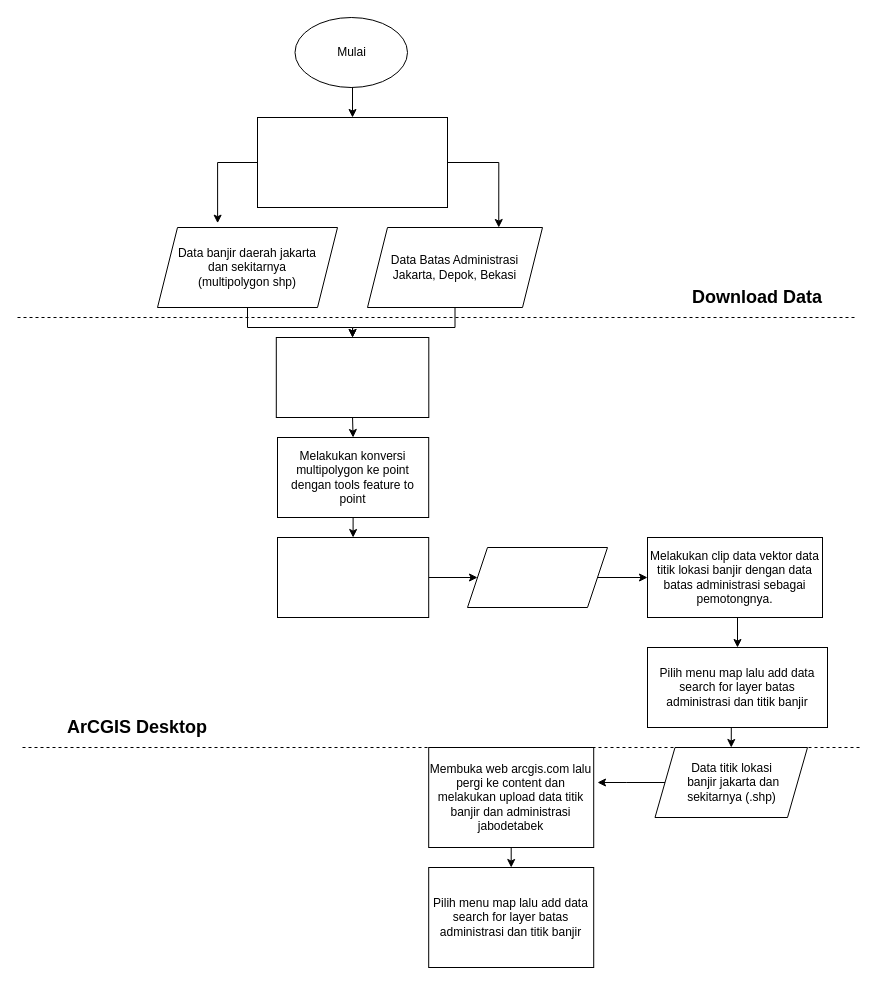
The diagram is 881 pixels wide and 985 high, and some of its shapes have lost their labels. The shapes that lost their labels are listed below. From the top down, each one's centre as x and y in pixels, then its label:
At [352,162]: "Mendownload data lokasi banjir di https://spbn.pusfatja.lapan.go.id/".
At [352,377]: "Membuka perangkat Lunak ArcMap dan add data".
At [352,577]: "Pilih data vektor shp daerah banjir, lalu beri nama hasil output nya".
At [537,577]: "Data titik lokasi banjir (.shp)".
